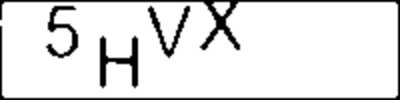5: (41, 1, 83, 61)
H: (94, 34, 146, 90)
V: (143, 3, 192, 61)
X: (197, 1, 245, 53)
